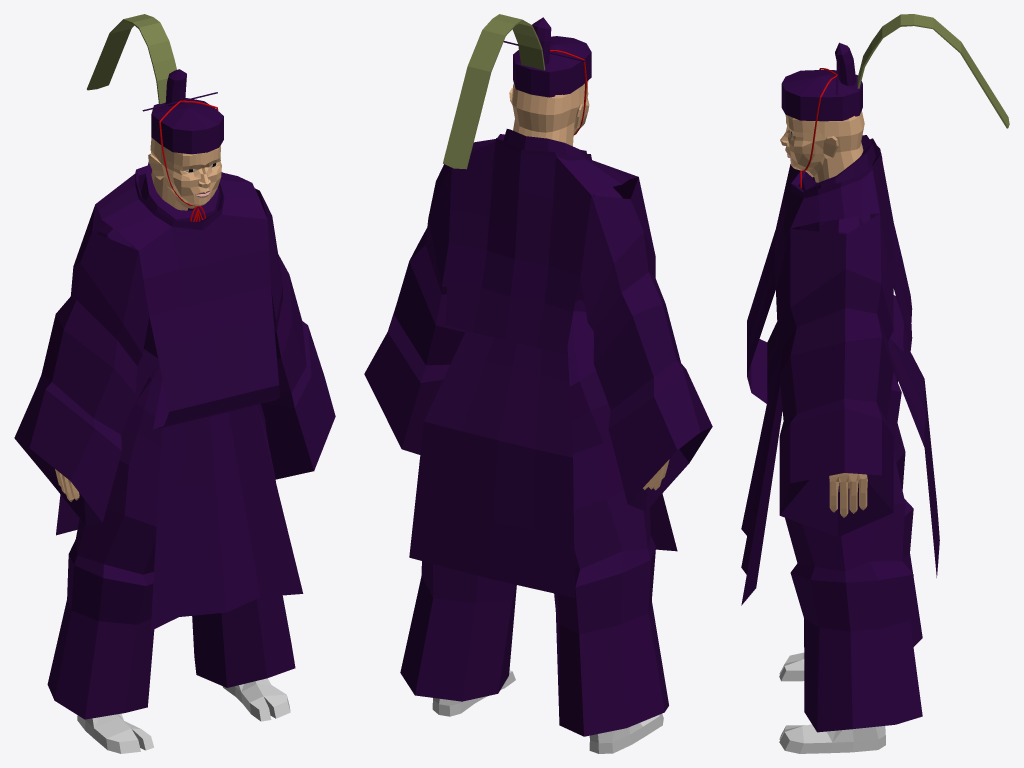
3 renders of one model, left to right at view 1: azimuth 30°, elevation 25°; view 2: azimuth 150°, elevation 25°; view 3: azimuth 270°, elevation 25°, orthographic. The views are drawn at different scales.
Parts seen in each view (by area): view 1: kns00; view 2: kns00; view 3: kns00.
Part boxes in pixels (x1,y1,x2,y2): kns00: [14, 14, 335, 753]; kns00: [364, 14, 712, 753]; kns00: [741, 14, 1009, 753].
Size of the model in its own units: 93.99 by 203 by 71.76.
